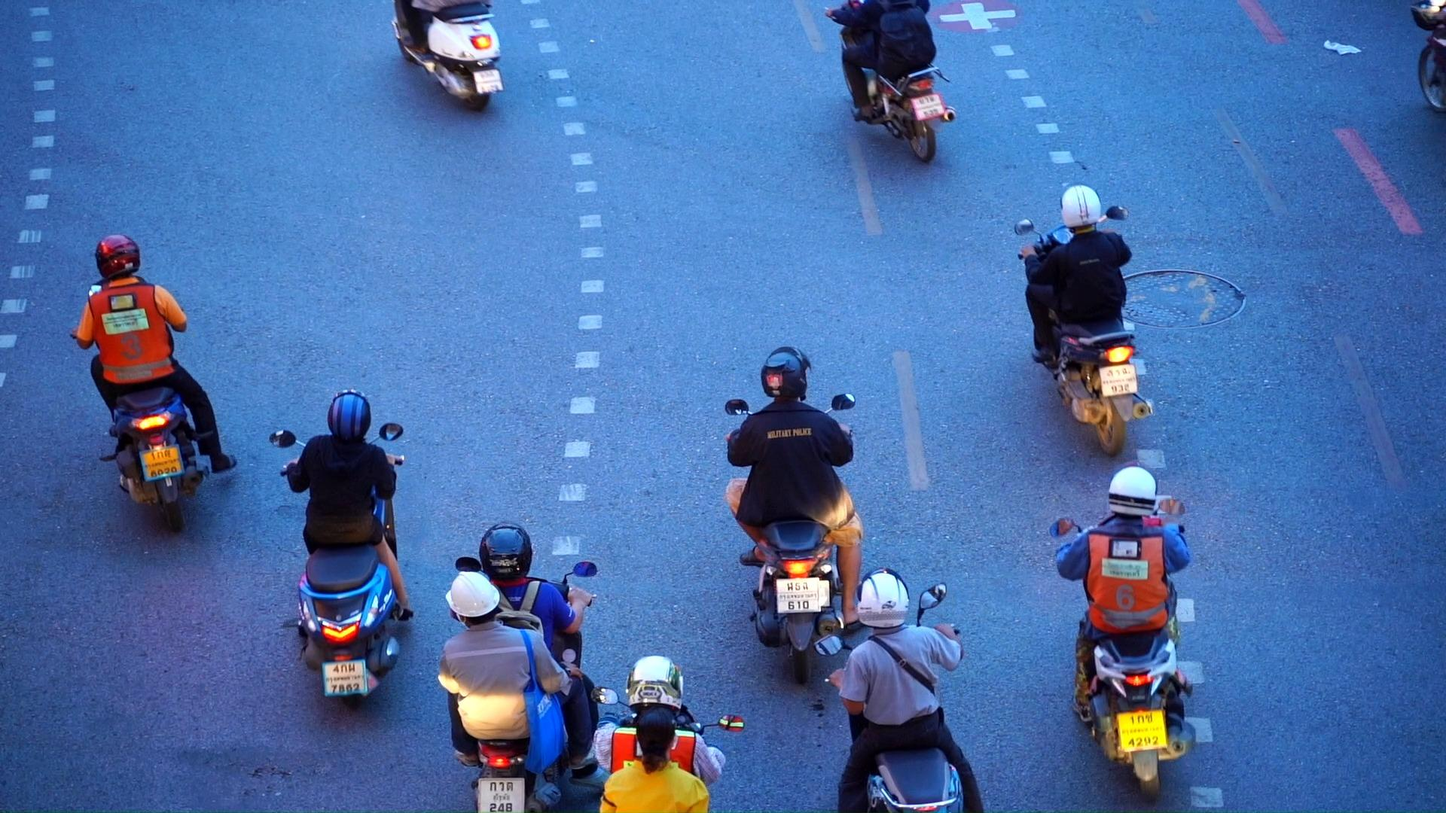driver: (1050, 460, 1197, 804), (70, 234, 236, 533), (724, 346, 868, 687), (438, 520, 601, 813), (269, 388, 414, 711), (812, 567, 985, 813), (1015, 184, 1156, 458), (592, 655, 746, 813), (824, 0, 956, 163), (392, 0, 505, 112)
helmet: (626, 655, 684, 715), (856, 567, 909, 630), (479, 520, 532, 582), (446, 571, 500, 630), (1109, 460, 1158, 520), (760, 346, 812, 401), (328, 387, 371, 442), (95, 233, 140, 281), (1059, 184, 1102, 234)
no-helmet: (636, 705, 679, 776)
